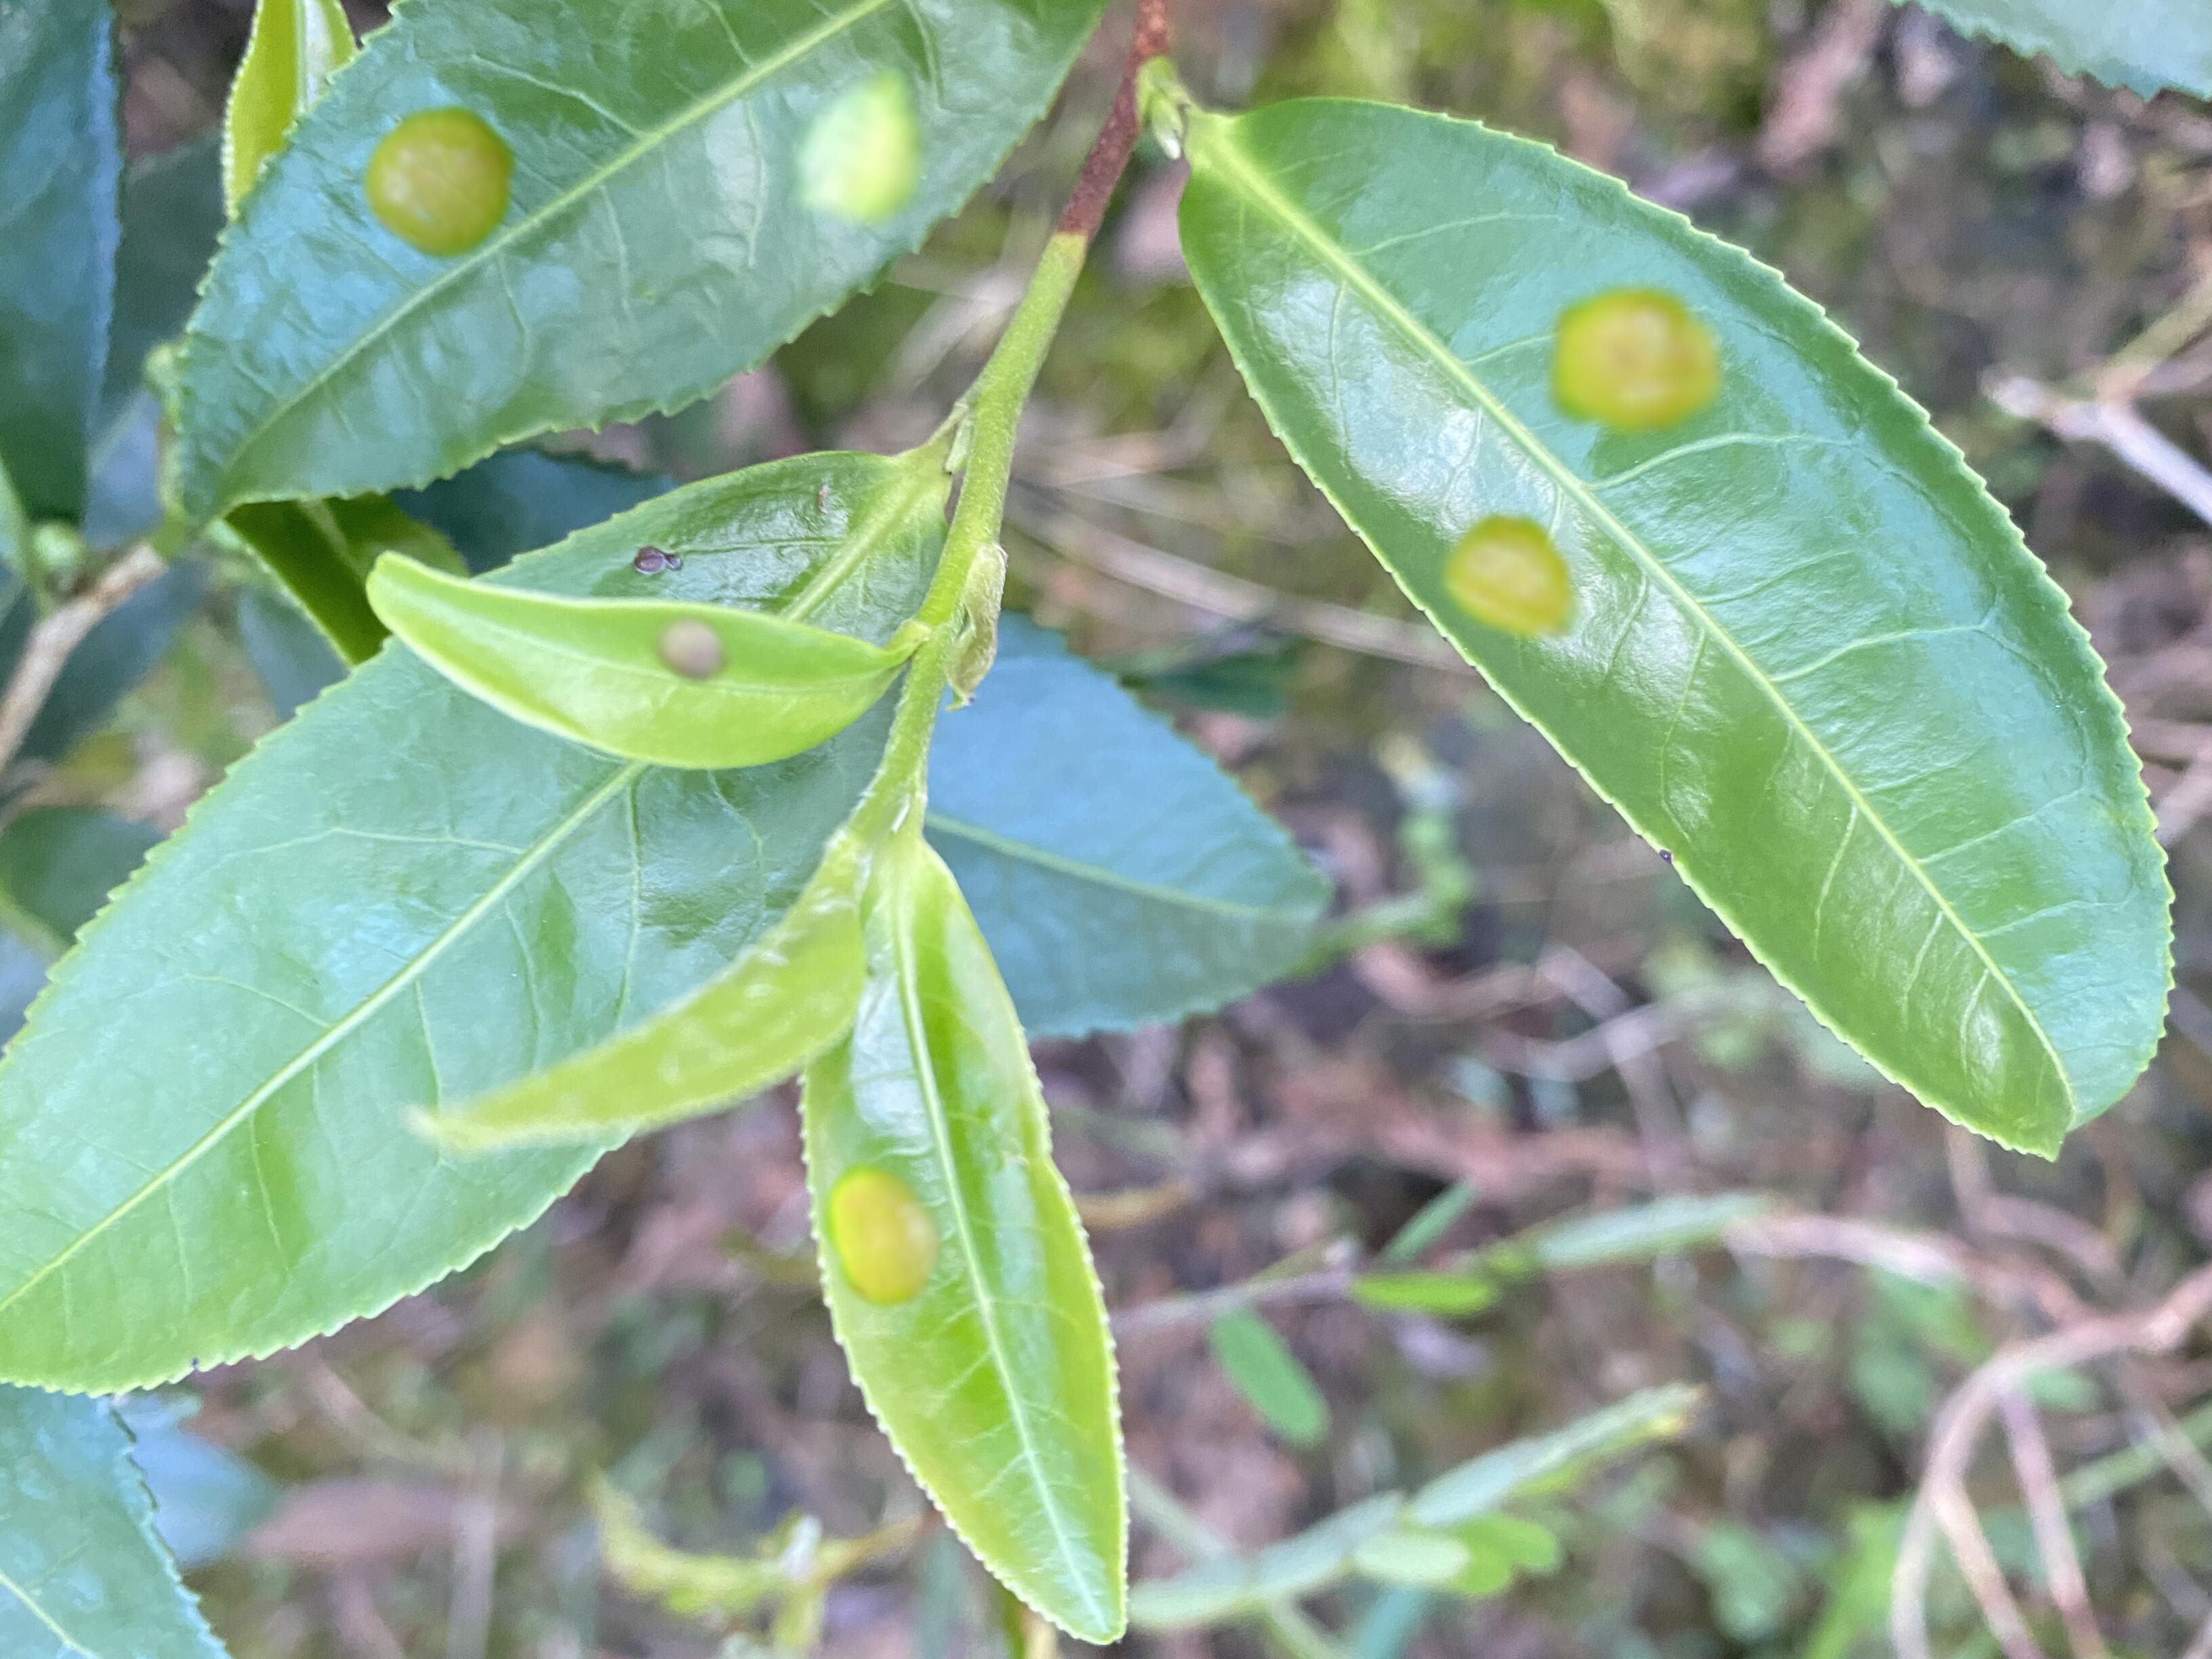chabing_high: (1179, 94, 2181, 1164), (174, 3, 1104, 523)
chabing_low: (796, 829, 1136, 1643), (368, 551, 909, 770)
